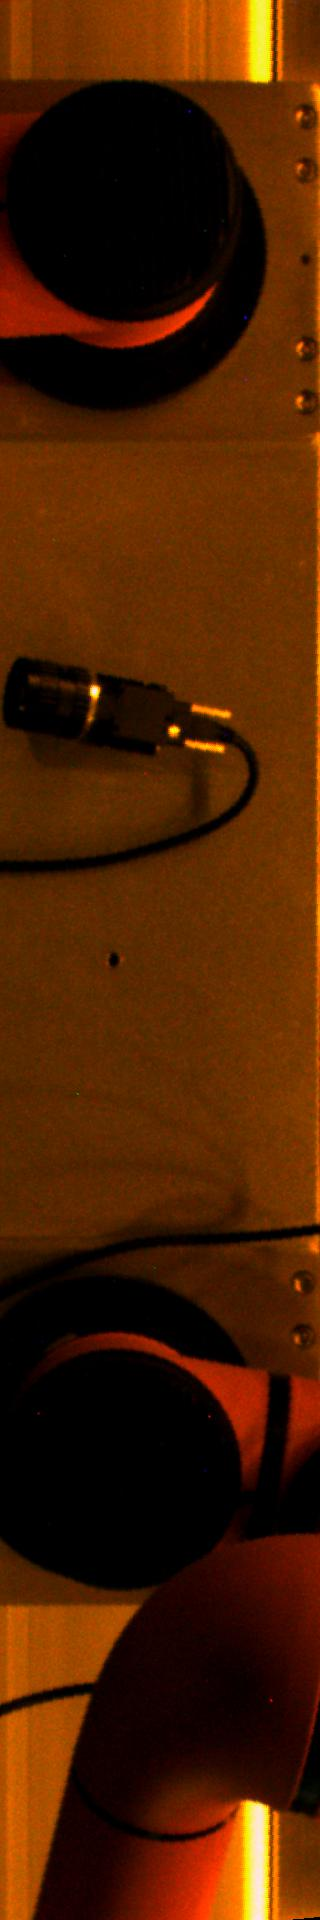keyPoint_2: (98, 945, 128, 975)
